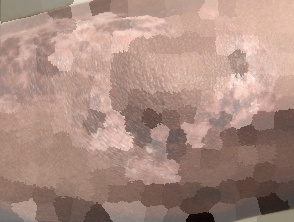vitiligo: (0, 1, 294, 206)
